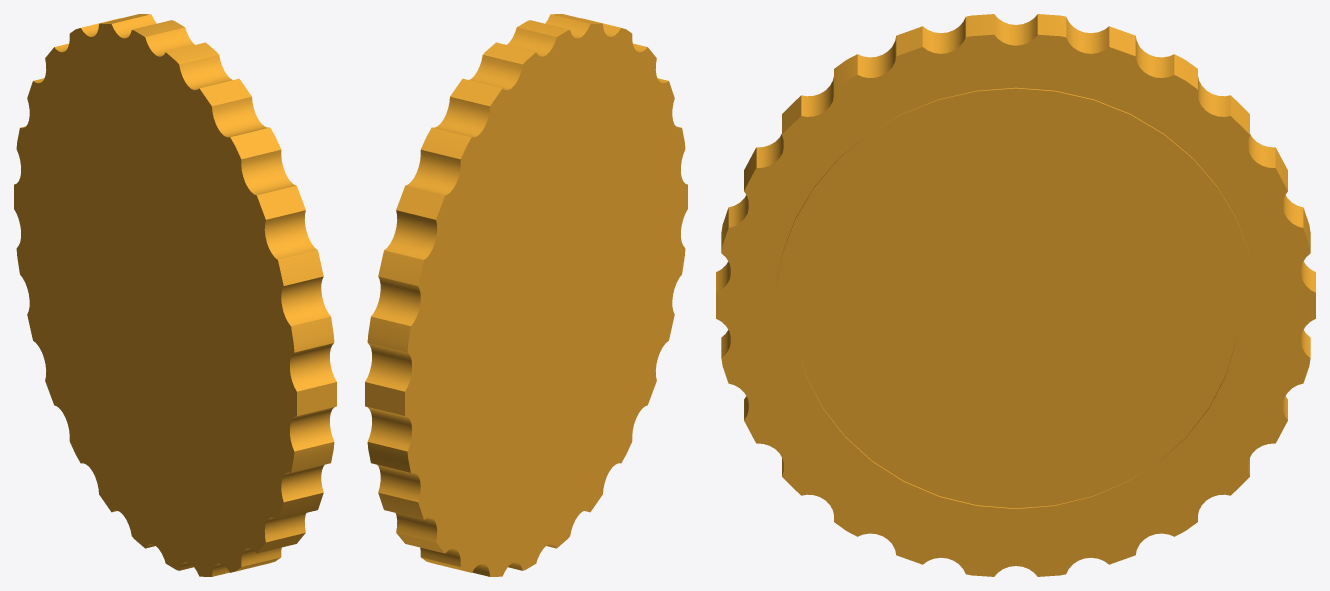
3 views of the same model, side by side, from view 1: azimuth 30°, elevation 25°; view 2: azimuth 150°, elevation 25°; view 3: azimuth 270°, elevation 25° (orthographic). The views are drawn at different scales.
Visible parts, largest first — view 1: disc; view 2: disc; view 3: disc, rim.
Part boxes in pixels (x1=…): disc: x1=14, y1=14, x2=336, y2=576; disc: x1=365, y1=14, x2=687, y2=576; disc: x1=716, y1=14, x2=1315, y2=576; rim: x1=776, y1=87, x2=1255, y2=524.
Size of the model in its own units: 0.00295 by 0.0348 by 0.0349.
